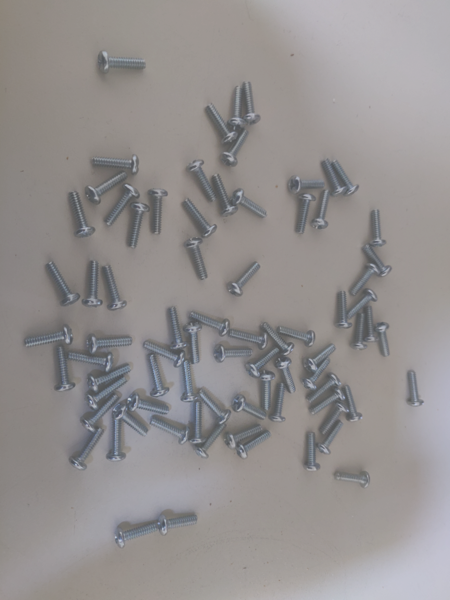shortscrew: (46, 261, 81, 308), (103, 183, 140, 227), (68, 427, 105, 471), (86, 171, 130, 205), (80, 394, 118, 433), (205, 103, 239, 146), (183, 198, 218, 238), (85, 378, 127, 411), (68, 192, 97, 238), (187, 160, 218, 203), (87, 364, 132, 393), (112, 403, 149, 438), (192, 423, 227, 460), (114, 521, 159, 549), (24, 324, 74, 348), (227, 262, 261, 297), (150, 417, 191, 446), (211, 173, 238, 217), (102, 265, 127, 311), (220, 129, 250, 167), (230, 189, 269, 218), (98, 51, 147, 74), (261, 322, 294, 356), (143, 342, 186, 368), (245, 348, 281, 379), (234, 431, 272, 460), (184, 237, 209, 281), (321, 158, 349, 196), (332, 159, 360, 197), (92, 153, 140, 175), (54, 345, 76, 393), (350, 263, 381, 297), (128, 202, 150, 249), (87, 334, 134, 356), (82, 260, 103, 309), (346, 289, 379, 320), (302, 344, 337, 373), (306, 375, 341, 404), (310, 388, 346, 416), (316, 420, 344, 456), (190, 312, 230, 337), (302, 357, 332, 390), (127, 394, 170, 417), (67, 352, 114, 373), (231, 394, 267, 421), (148, 353, 170, 397), (363, 245, 392, 278), (320, 402, 349, 435), (148, 189, 168, 236), (225, 426, 263, 450), (295, 193, 316, 235), (158, 514, 198, 536), (168, 306, 188, 350), (277, 325, 315, 348), (242, 81, 261, 126), (229, 86, 248, 130), (106, 421, 126, 462), (287, 175, 326, 196), (230, 329, 269, 350), (180, 360, 199, 403), (184, 322, 203, 365), (311, 190, 331, 230), (214, 344, 253, 364), (275, 357, 295, 395), (406, 370, 425, 408), (334, 470, 370, 490), (335, 290, 353, 330), (350, 313, 369, 350), (304, 433, 322, 471), (270, 383, 287, 423), (190, 402, 206, 444), (259, 370, 275, 412), (370, 209, 387, 248), (346, 385, 363, 424), (375, 323, 391, 358), (365, 306, 379, 344)
